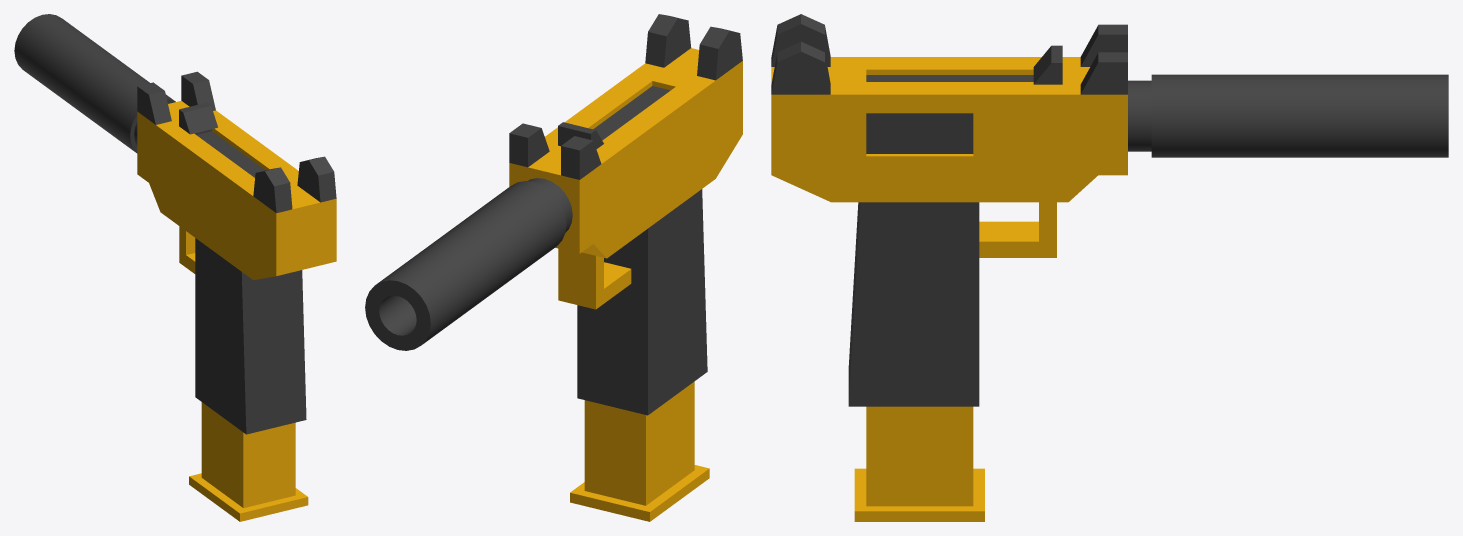
Rendered from uziSilencerGold.dae.
3 renders of one model, left to right at view 1: azimuth 30°, elevation 25°; view 2: azimuth 150°, elevation 25°; view 3: azimuth 270°, elevation 25°, orthographic. The views are drawn at different scales.
Visible parts, largest first — view 1: Group (×4); view 2: Group (×4); view 3: Group (×4).
Boxes of the visible parts, x1=… form: Group (×4): x1=14, y1=14, x2=336, y2=521; Group (×4): x1=365, y1=14, x2=742, y2=521; Group (×4): x1=771, y1=14, x2=1448, y2=521.
Bounding box in the file's own units: 0.0651 × 0.333 × 0.4368.
